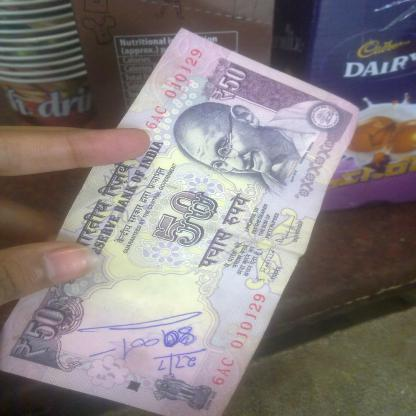Old50Front: (0, 28, 359, 415)
